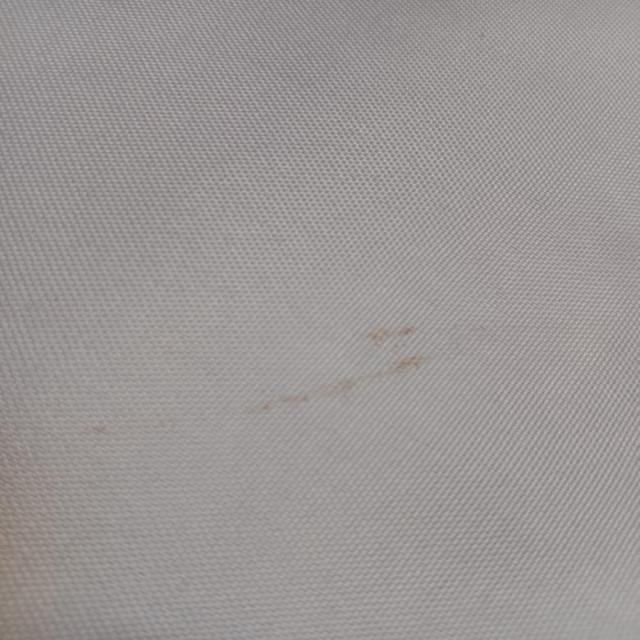stain: (233, 315, 463, 419)
